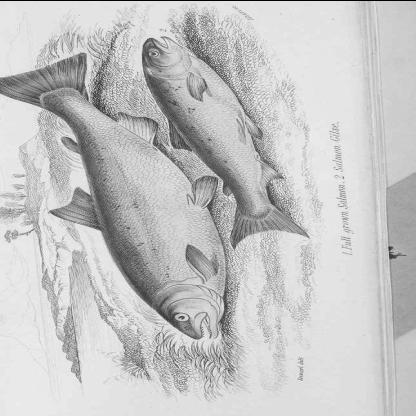fish: (0, 51, 229, 340), (139, 36, 309, 246)
